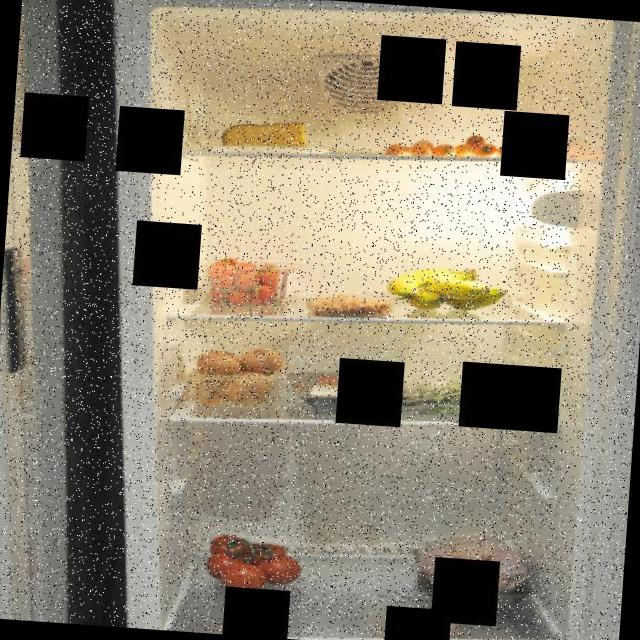Carne pollo: (408, 524, 544, 614)
Carne vacuno: (308, 368, 403, 402)
Cebolla: (186, 341, 282, 408)
Gambas/Langostinos: (305, 287, 394, 323)
Plátano: (382, 258, 513, 320)
Queso: (217, 113, 311, 159)
Tomate: (199, 522, 308, 602)
Zanahoria: (384, 122, 545, 170)
